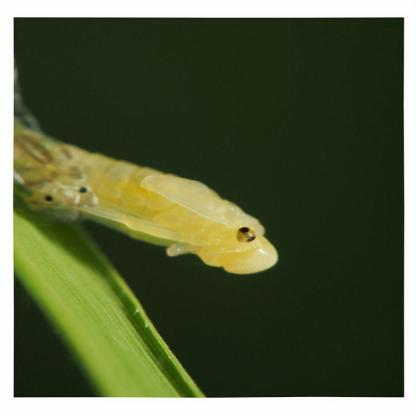green-leafhopper: (18, 119, 284, 289)
